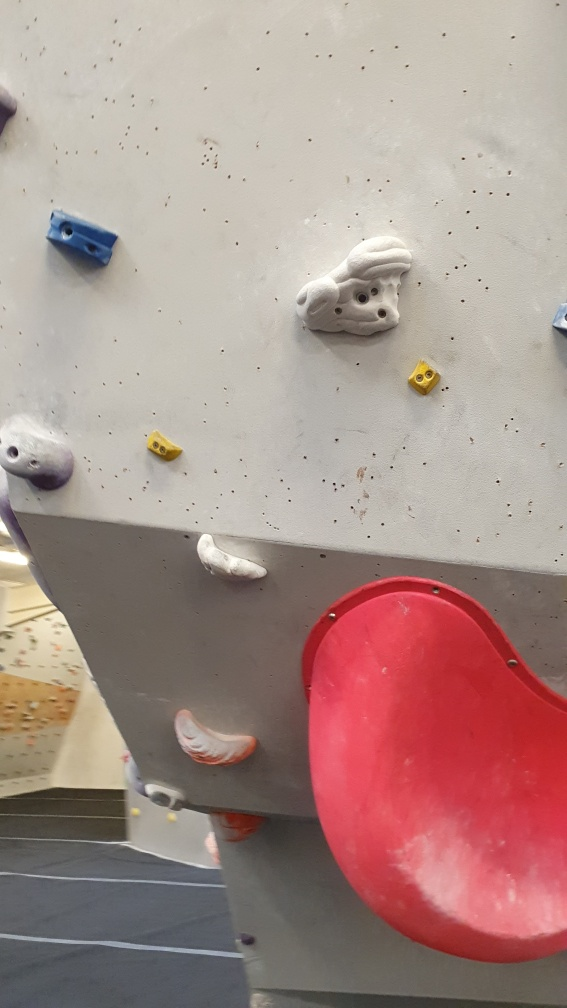Crimp: (142, 428, 186, 467)
Jug: (294, 231, 418, 339), (169, 703, 262, 772), (190, 527, 273, 590)
Pinch: (44, 205, 123, 271), (402, 356, 448, 398)
Sloper: (1, 415, 78, 496)
